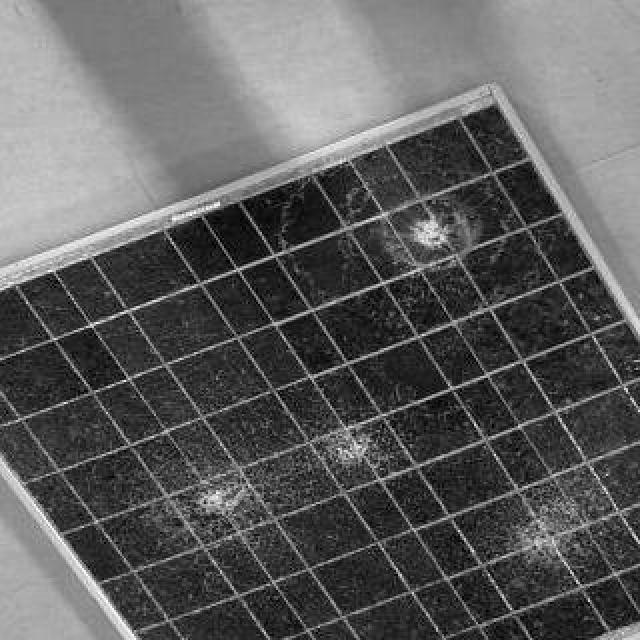Physical-damage: (348, 174, 507, 287), (500, 466, 622, 568), (302, 392, 408, 494), (154, 468, 278, 538)
